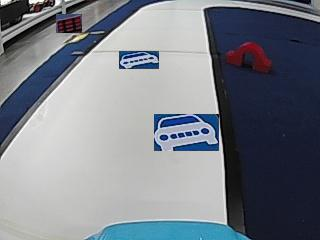bridge: (227, 42, 270, 73)
